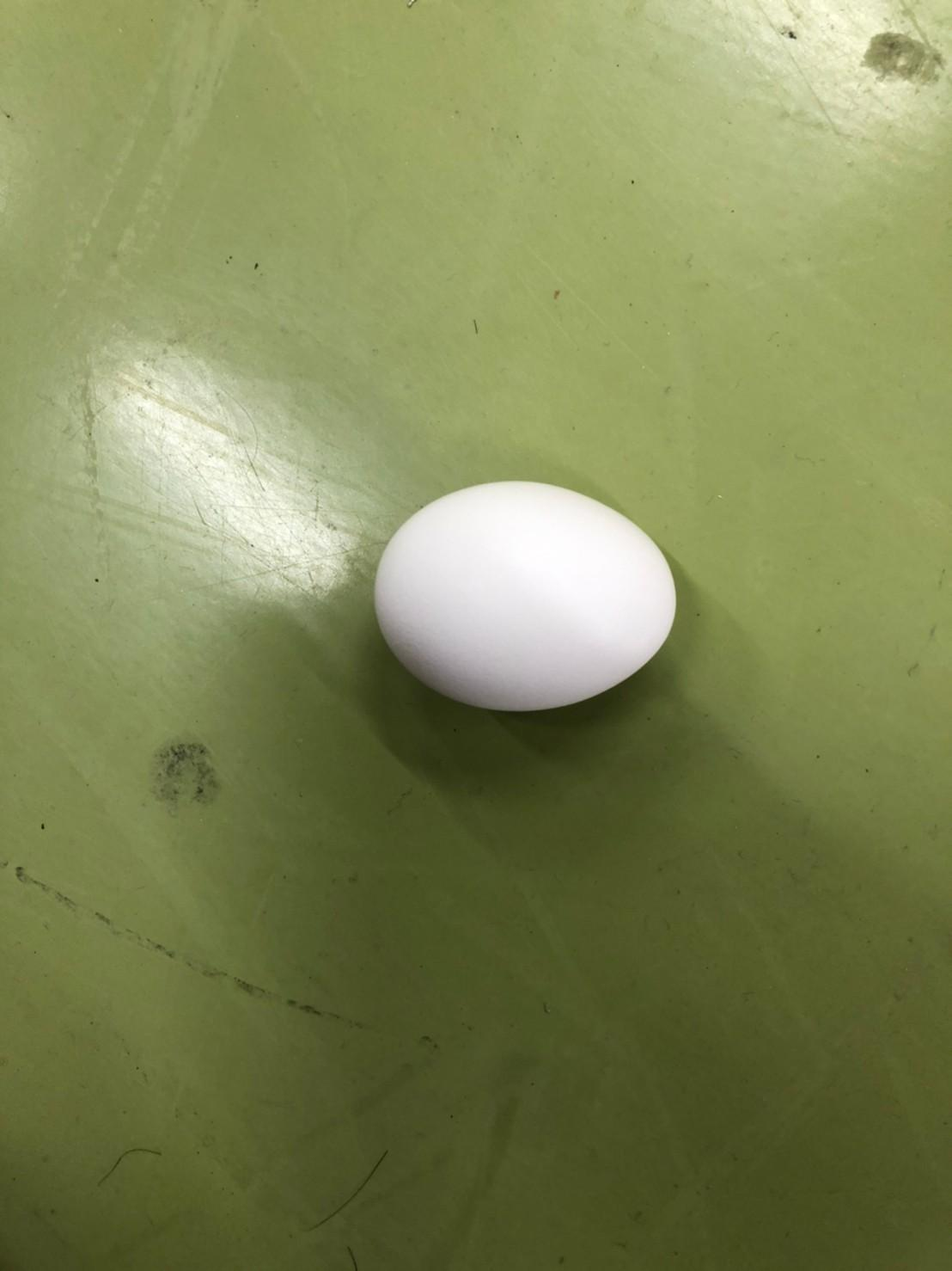egg: (368, 476, 680, 718)
